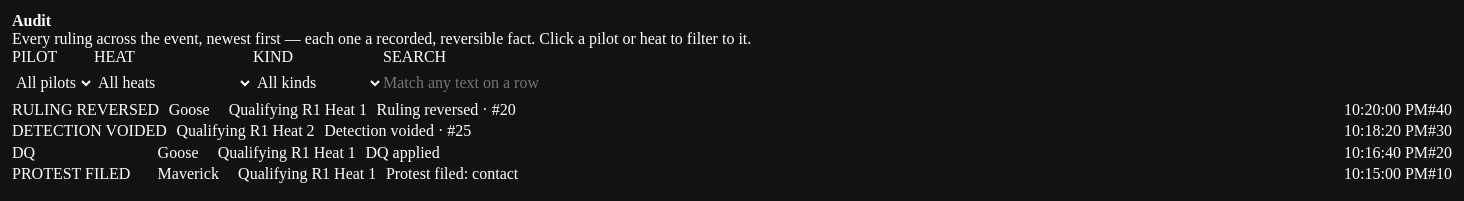
it: EventAudit — the event-wide audit page › clicking a pilot chip filters to that pilot; a heat chip filters to that heat
Expected: the number of list items is 4, left=12, top=100, right=1452, bottom=121; left=12, top=121, right=1452, bottom=142; left=12, top=142, right=1452, bottom=163; left=12, top=163, right=1452, bottom=184
Click the button "Goose" in the row of "DQ applied": (178,153) left=148, top=142, right=208, bottom=163
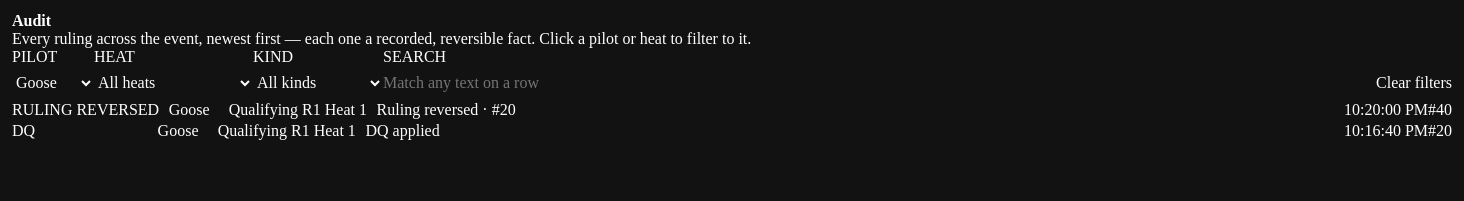
Expected: the number of list items is 2, left=12, top=100, right=1452, bottom=121; left=12, top=121, right=1452, bottom=142
Expected: the dropdown named "Filter by pilot" shows "Goose", left=12, top=66, right=94, bottom=100
Note: Reset, then click the q2 heat chip → only q2's row remains.
Click the button "Clear filters": (1414,83) left=1376, top=66, right=1452, bottom=100
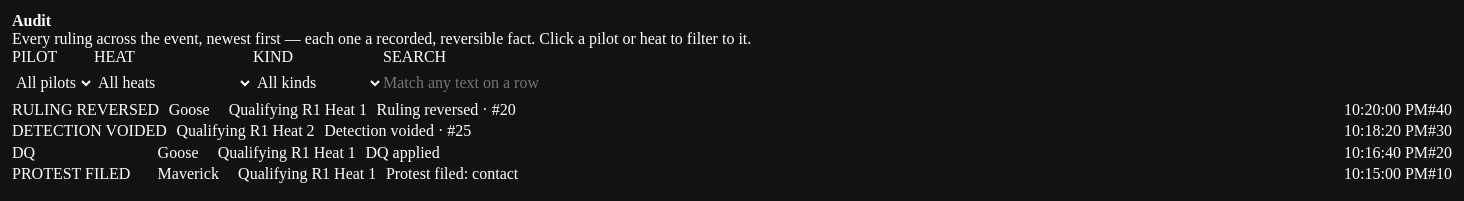
Expected: the number of list items is 4, left=12, top=100, right=1452, bottom=121; left=12, top=121, right=1452, bottom=142; left=12, top=142, right=1452, bottom=163; left=12, top=163, right=1452, bottom=184
Click the button "Qualifying R1 Heat 2": (246,131) left=167, top=121, right=324, bottom=142
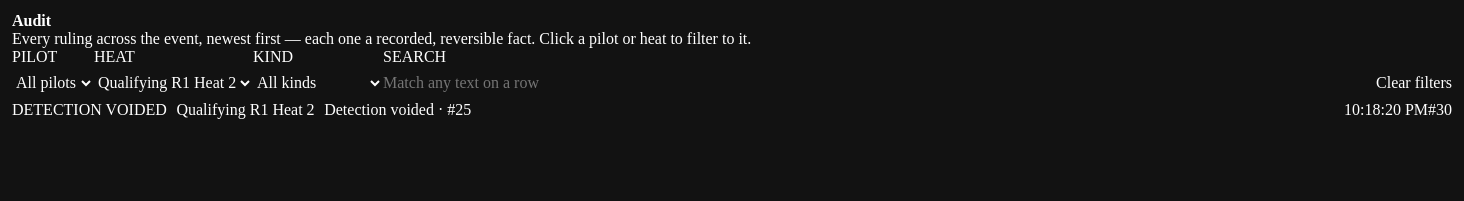
Expected: the list item shows "Detection voided", left=12, top=101, right=167, bottom=118
Expected: the number of list items is 1, left=12, top=100, right=1452, bottom=121
